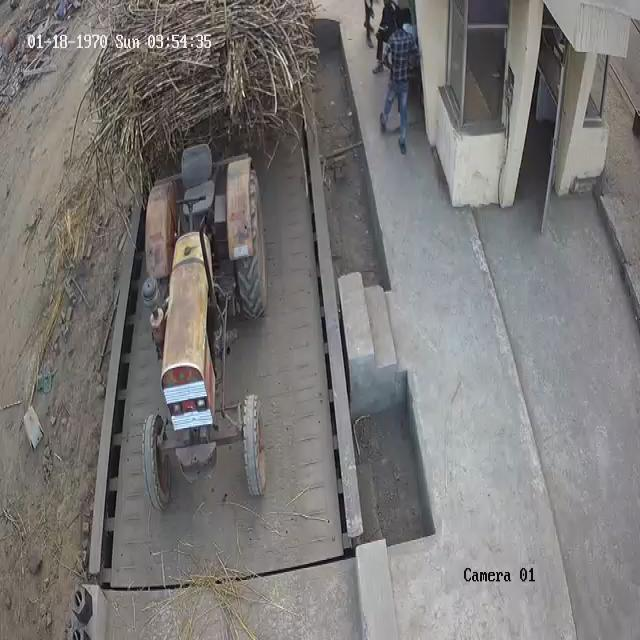Tratores - v5 YOLO V8L 2024-11-13: (135, 154, 273, 504)
